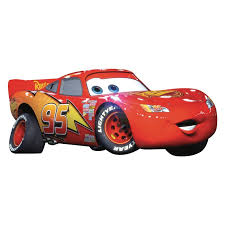mcqueen: (7, 66, 219, 155)
